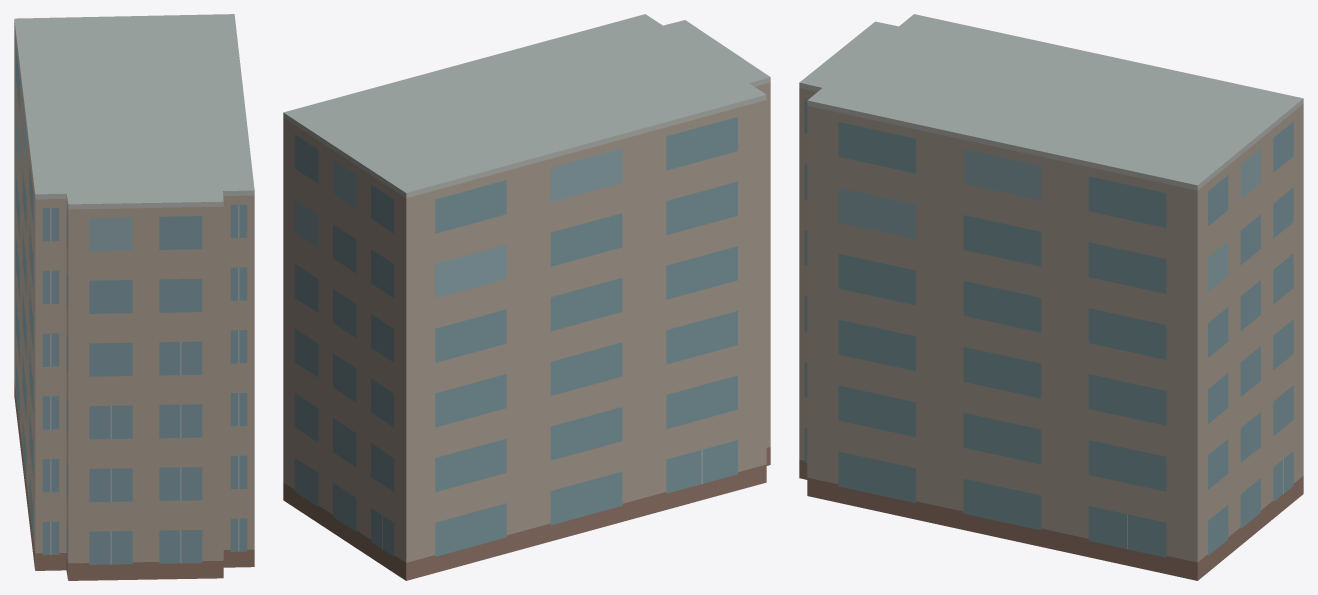
Rendered from survey-upis-32554849.glb.
3 views of the same model, side by side, from view 1: azimuth 30°, elevation 25°; view 2: azimuth 150°, elevation 25°; view 3: azimuth 270°, elevation 25° (orthographic). The views are drawn at different scales.
Parts seen in each view (by area): view 1: survey-upis-32554849.tmp; view 2: survey-upis-32554849.tmp; view 3: survey-upis-32554849.tmp.
Part boxes in pixels (bbox=[...]): survey-upis-32554849.tmp: bbox=[14, 14, 254, 580]; survey-upis-32554849.tmp: bbox=[283, 14, 770, 580]; survey-upis-32554849.tmp: bbox=[799, 14, 1303, 580].
Bounding box in the file's own units: 17.02 × 18.3 × 21.16.
